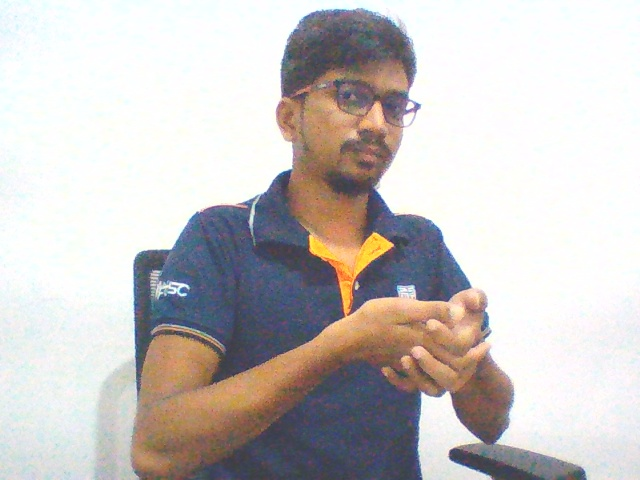mangosteen: (319, 285, 502, 405)
